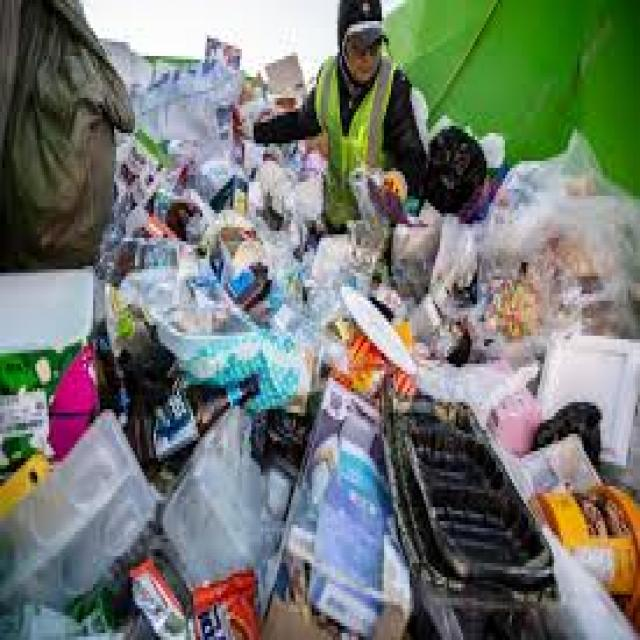heap: (115, 218, 639, 640)
